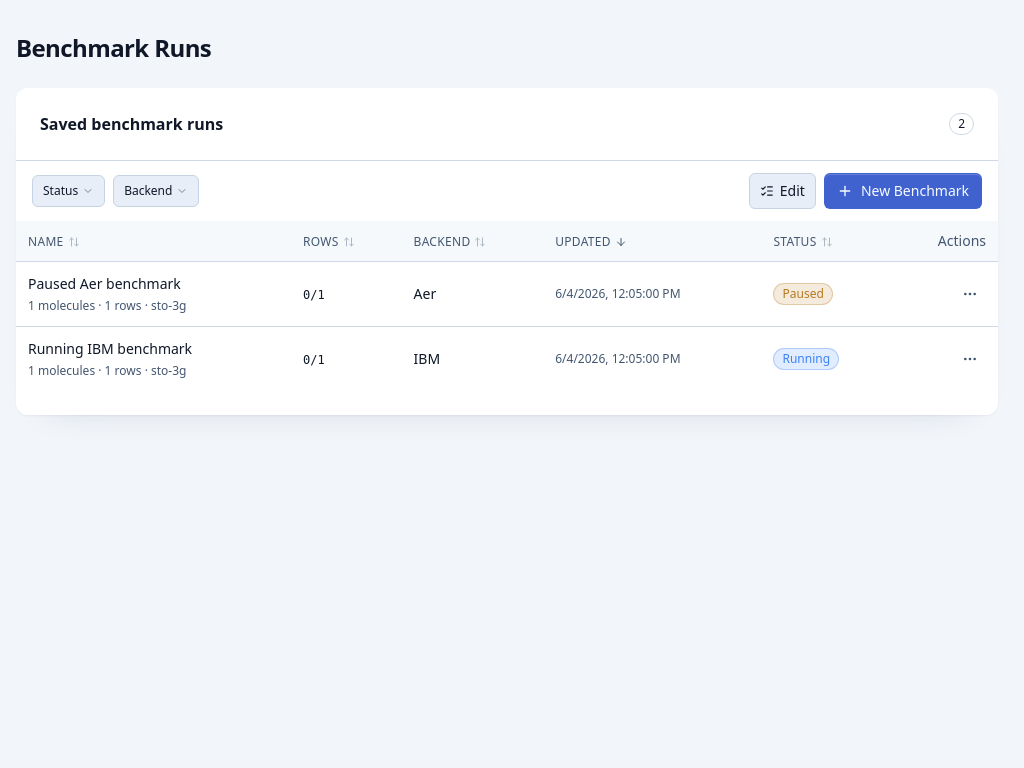
Test: BenchmarkRunsPage › filters saved benchmarks by aggregate status and backend
The image size is (1024, 768).
Click the button with aria-label "filter by status": (69, 191) [32,175,105,207]
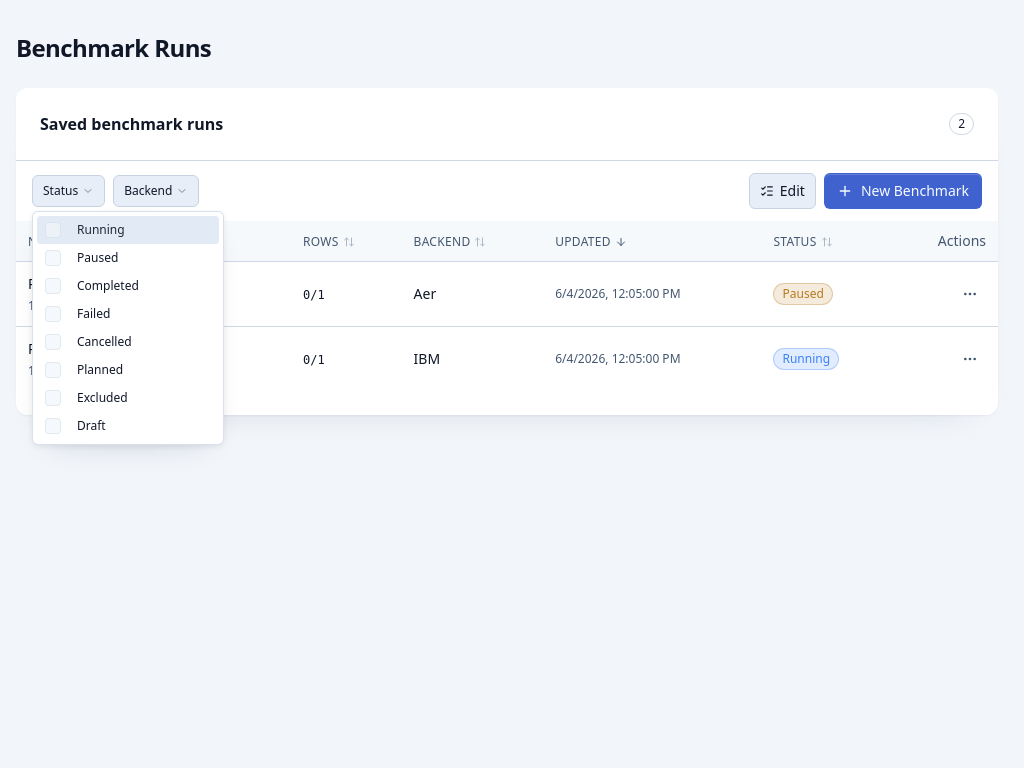
Click the option "Paused": (82, 258) [45,249,118,266]
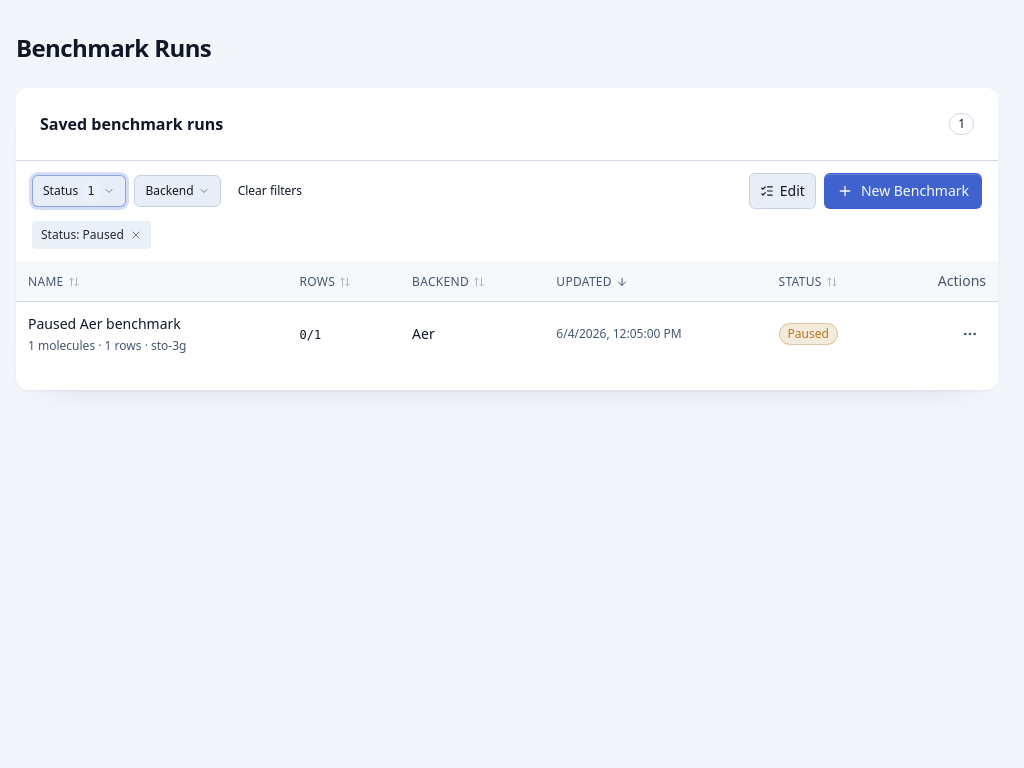
Expected: the text "Paused Aer benchmark" is shown, [28,314,181,332]
Expected: the text "Running IBM benchmark" is gone
Click the button with aria-label "filter by backend": (178, 191) [134,175,221,207]
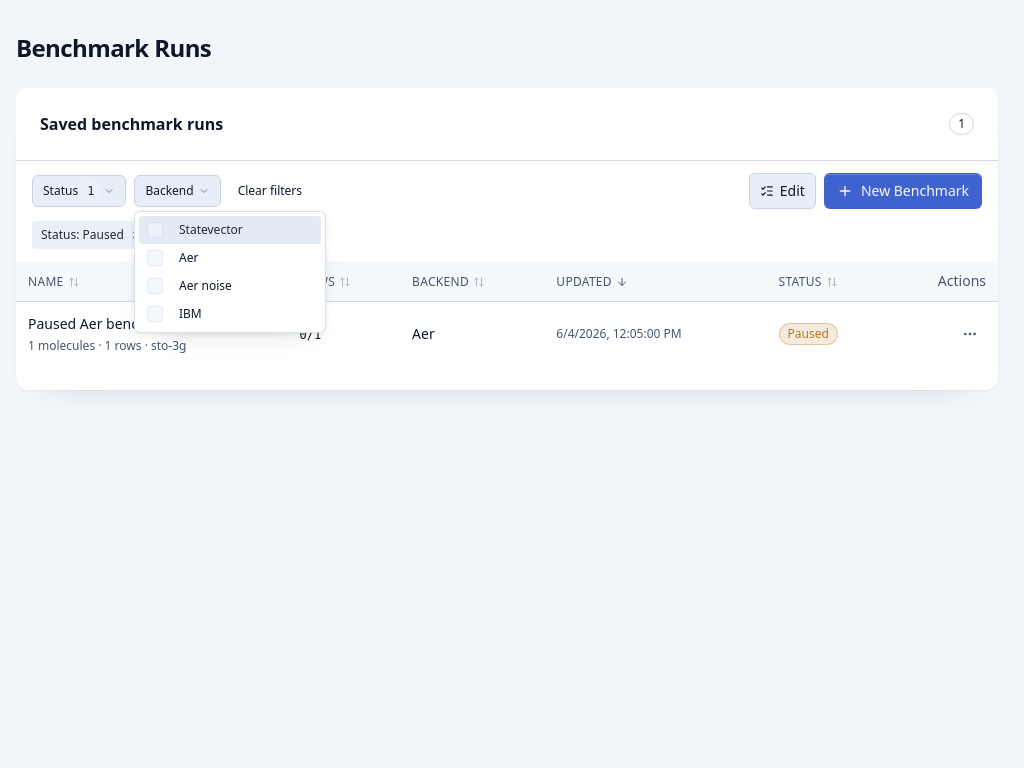
Click the option "Aer": (155, 258) [147,249,198,266]
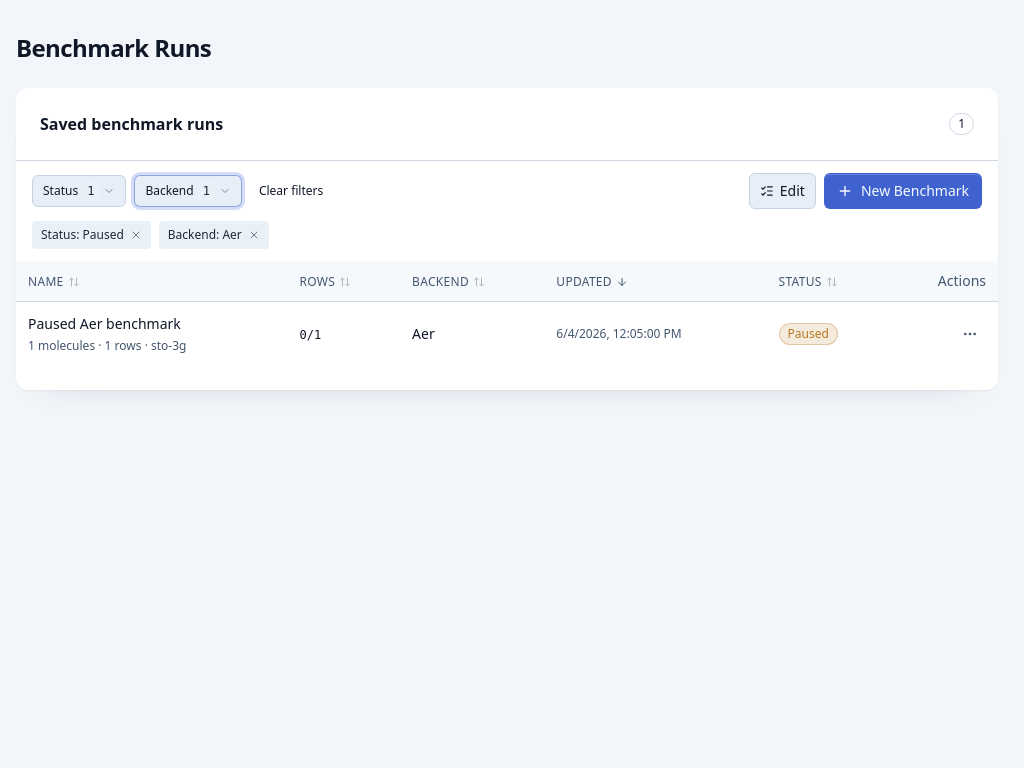
Expected: the text "Backend: Aer" is shown, [159,221,269,249]
